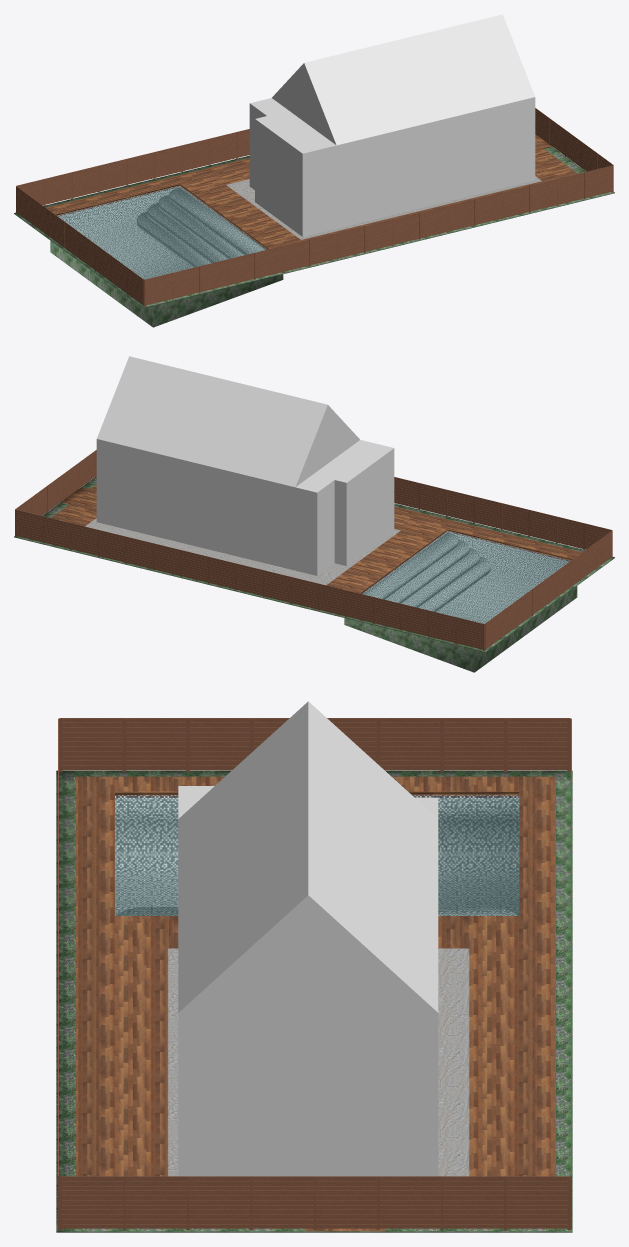
Rendered from Outdoor_clean.gltf.
3 renders of one model, top to bottom at view 1: azimuth 30°, elevation 25°; view 2: azimuth 150°, elevation 25°; view 3: azimuth 270°, elevation 25°, orthographic. The views are drawn at different scales.
Visible parts, largest first — view 1: HouseExterior, Floor.001, Wooden_Boundary-1, Wooden_Boundary-2; view 2: HouseExterior, Floor.001, Wooden_Boundary-1, Wooden_Boundary-2; view 3: HouseExterior, Floor.001, Wooden_Boundary-2, Wooden_Boundary-1.
Boxes of the visible parts, left/top/right/bottom form: HouseExterior: left=249, top=14, right=535, bottom=236; Floor.001: left=14, top=134, right=614, bottom=327; Wooden_Boundary-1: left=16, top=129, right=613, bottom=306; Wooden_Boundary-2: left=16, top=108, right=613, bottom=306; HouseExterior: left=96, top=356, right=394, bottom=575; Floor.001: left=14, top=476, right=614, bottom=672; Wooden_Boundary-1: left=15, top=477, right=612, bottom=650; Wooden_Boundary-2: left=15, top=450, right=612, bottom=650; HouseExterior: left=178, top=701, right=438, bottom=1176; Floor.001: left=56, top=770, right=572, bottom=1232; Wooden_Boundary-2: left=59, top=718, right=570, bottom=1230; Wooden_Boundary-1: left=58, top=718, right=571, bottom=1229.
Size of the model in its own units: 37.75 by 13.75 by 17.88.
5 materials, 4 textured.
